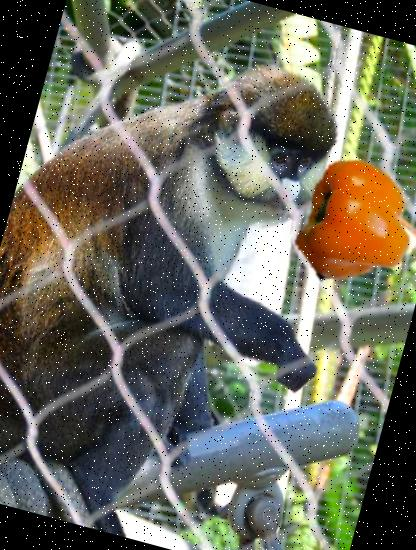Pepper: (276, 147, 416, 299)
